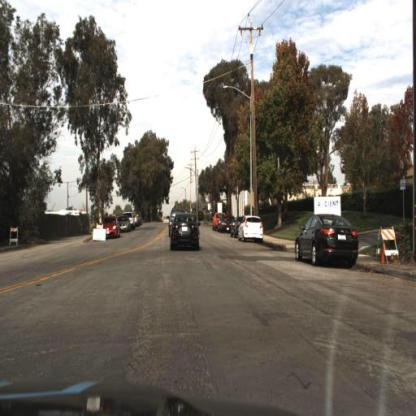car: (291, 209, 363, 277), (164, 211, 203, 257), (170, 211, 202, 254), (238, 211, 269, 247), (98, 213, 123, 245), (118, 214, 133, 237)
